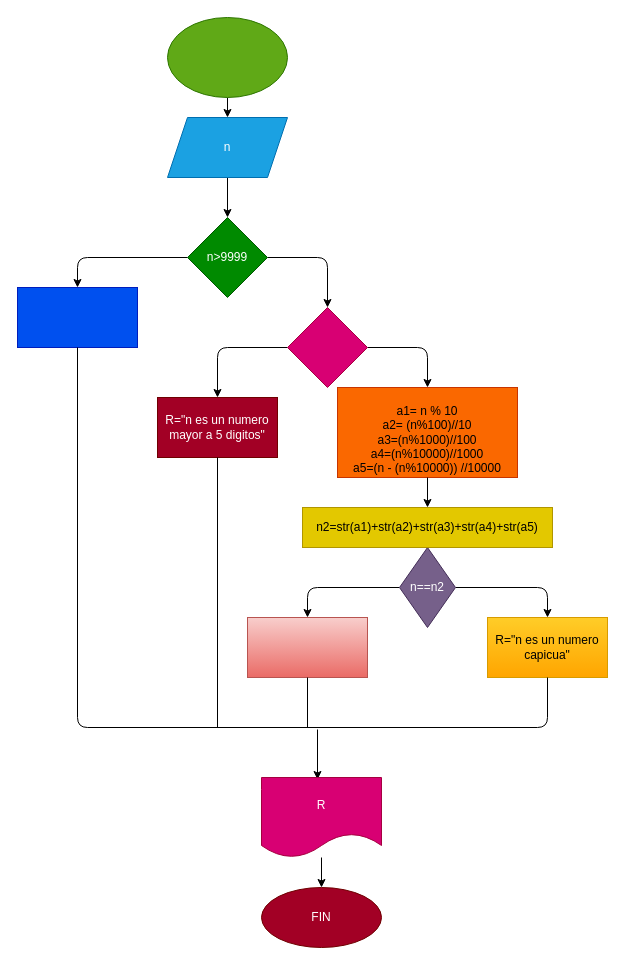
This 625x965 diagram has some shape labels left out. The centre of each missing label's shape, as x and y in pixels:
INICIO: the point at 227,57
n<=99999: the point at 327,347
R="n no cumple las condiciones": the point at 77,317
R="n no es un numero capicua": the point at 307,647
